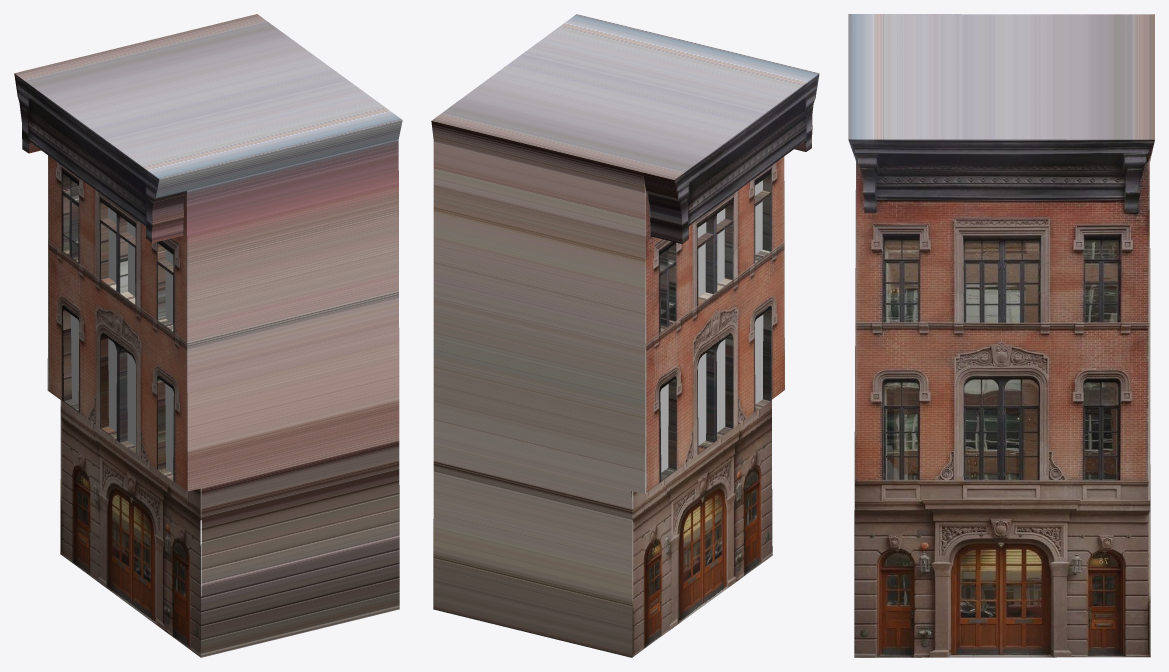
The picture shows the model from 3 angles, left to right: view 1: azimuth 30°, elevation 25°; view 2: azimuth 150°, elevation 25°; view 3: azimuth 270°, elevation 25°; orthographic projection. The views are drawn at different scales.
Visible parts, largest first — view 1: ev_5; view 2: ev_5; view 3: ev_5.
Boxes of the visible parts, <box> form: ev_5: <box>14,14,402,657</box>; ev_5: <box>431,14,819,657</box>; ev_5: <box>848,14,1154,657</box>.
Bounding box in the file's own units: 160 × 308 × 165.
2 materials, 1 textured.
